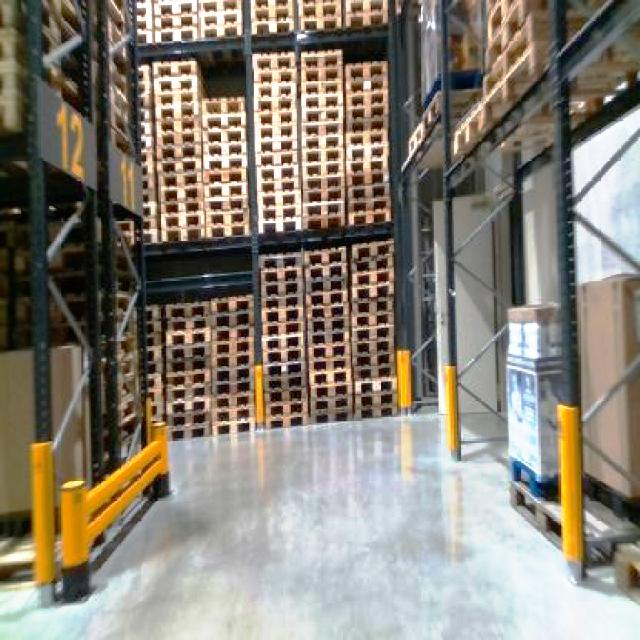ground: (0, 406, 638, 638)
pallet: (129, 0, 403, 440), (505, 268, 638, 635), (0, 398, 171, 602), (445, 0, 638, 165), (574, 271, 638, 511), (611, 535, 638, 638)
